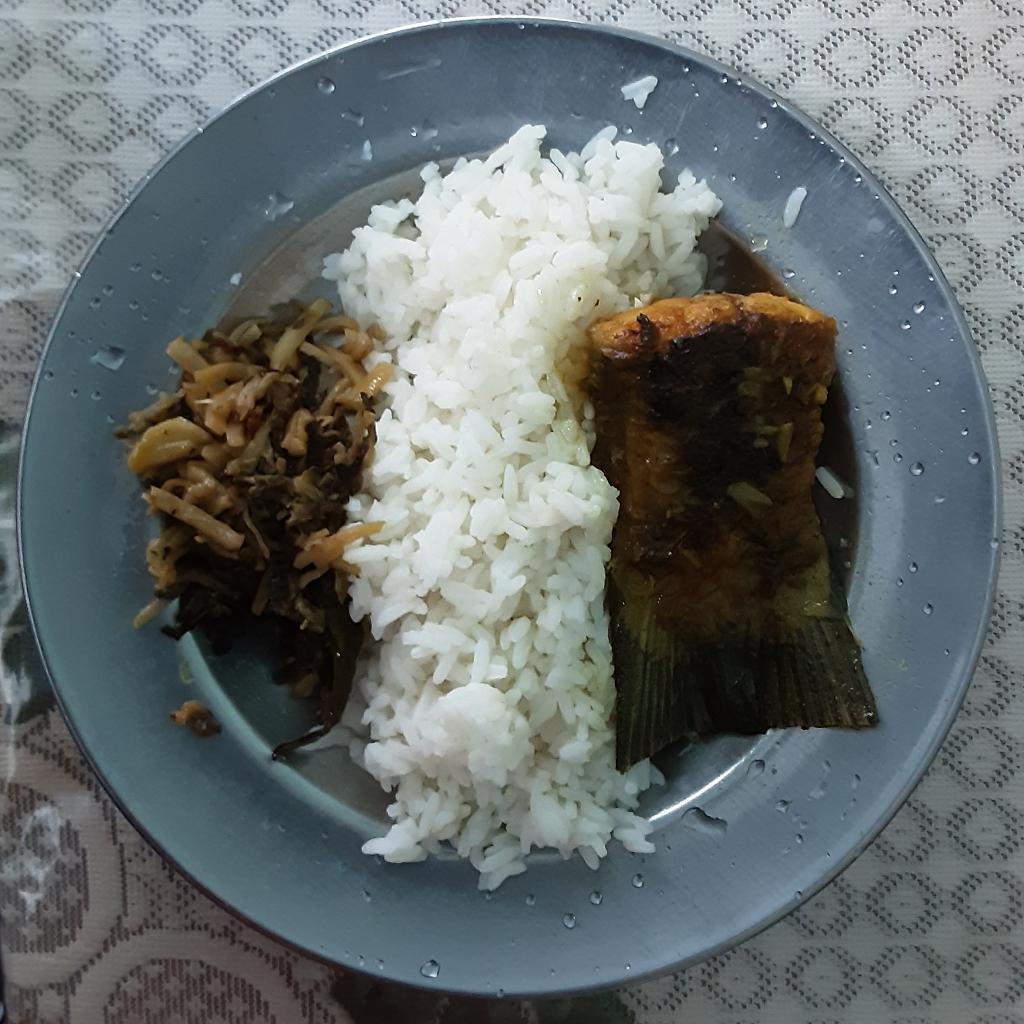fish: (585, 290, 878, 771)
korola-vaji: (110, 303, 394, 760), (173, 701, 226, 736)
rice: (314, 126, 724, 901)
